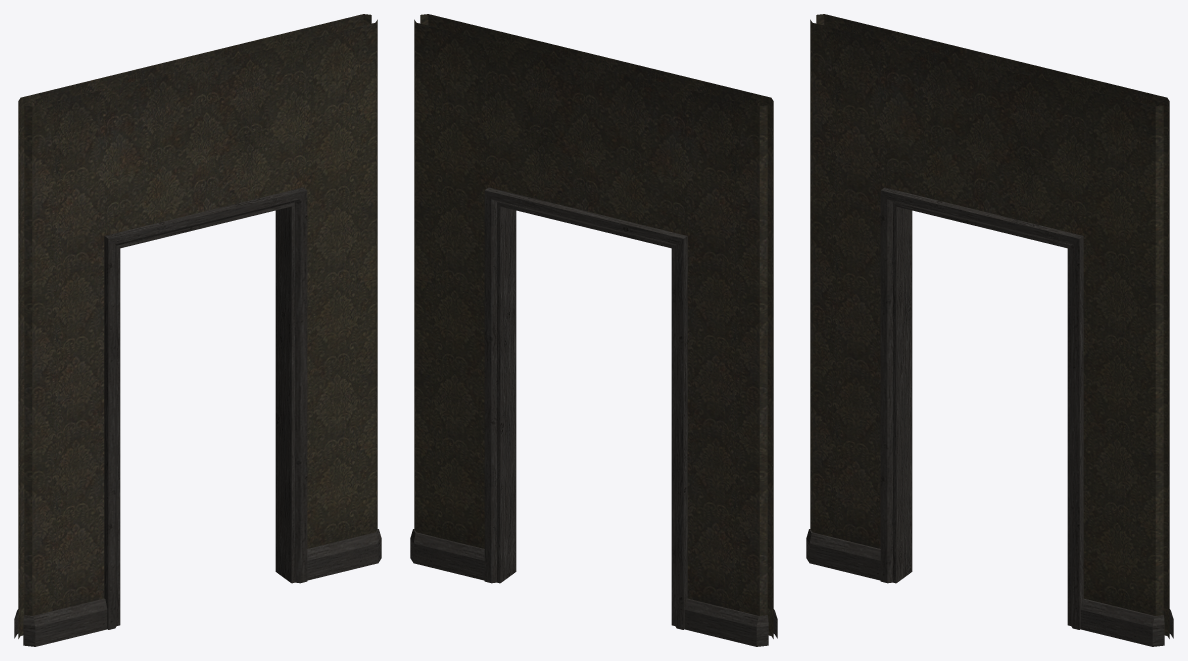
File: doorway_2_2_half.obj
3 renders of one model, left to right at view 1: azimuth 30°, elevation 25°; view 2: azimuth 150°, elevation 25°; view 3: azimuth 330°, elevation 25°, orthographic.
Visible parts, largest first — view 1: doorway_2_2_half; view 2: doorway_2_2_half; view 3: doorway_2_2_half.
Part boxes in pixels (bbox=[...]): doorway_2_2_half: bbox=[14, 14, 381, 646]; doorway_2_2_half: bbox=[410, 14, 777, 646]; doorway_2_2_half: bbox=[806, 14, 1173, 646].
Size of the model in its own units: 2.09 by 3 by 0.2.
